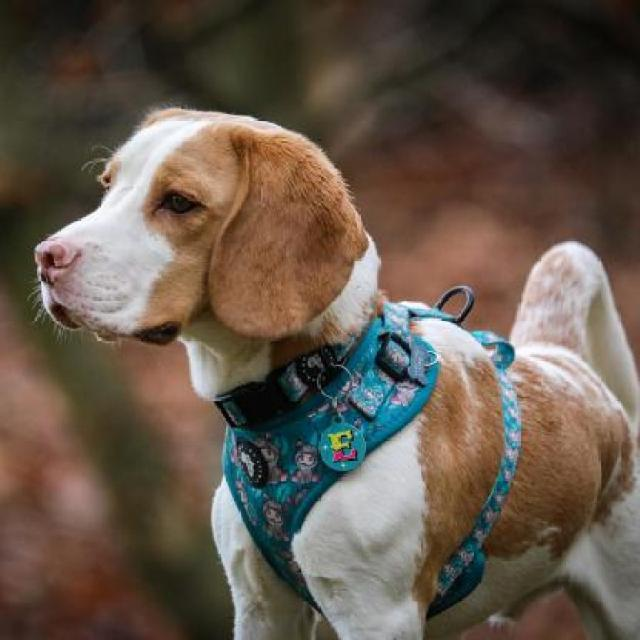Dog: (34, 101, 638, 638)
